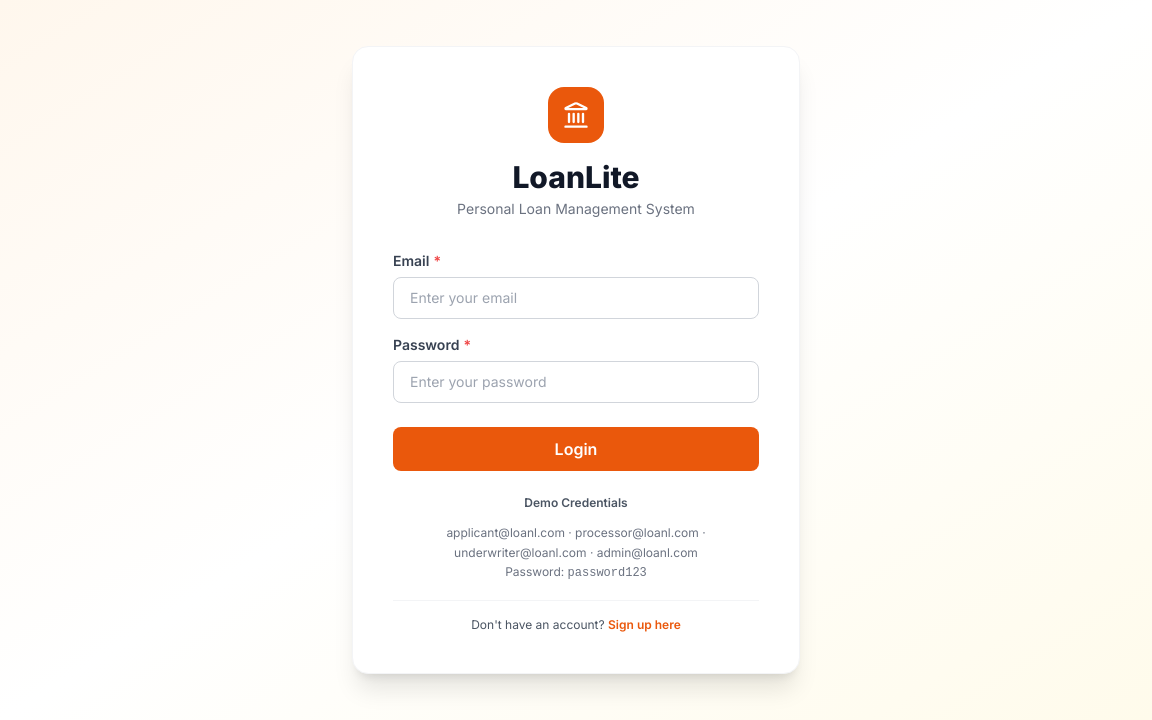
Login — error handling › shows the backend error message on a 401 bad-credentials response
Step 1. Type "a@b.com" into the field labelled "Email*" → (576, 298), box [393,277,759,319]
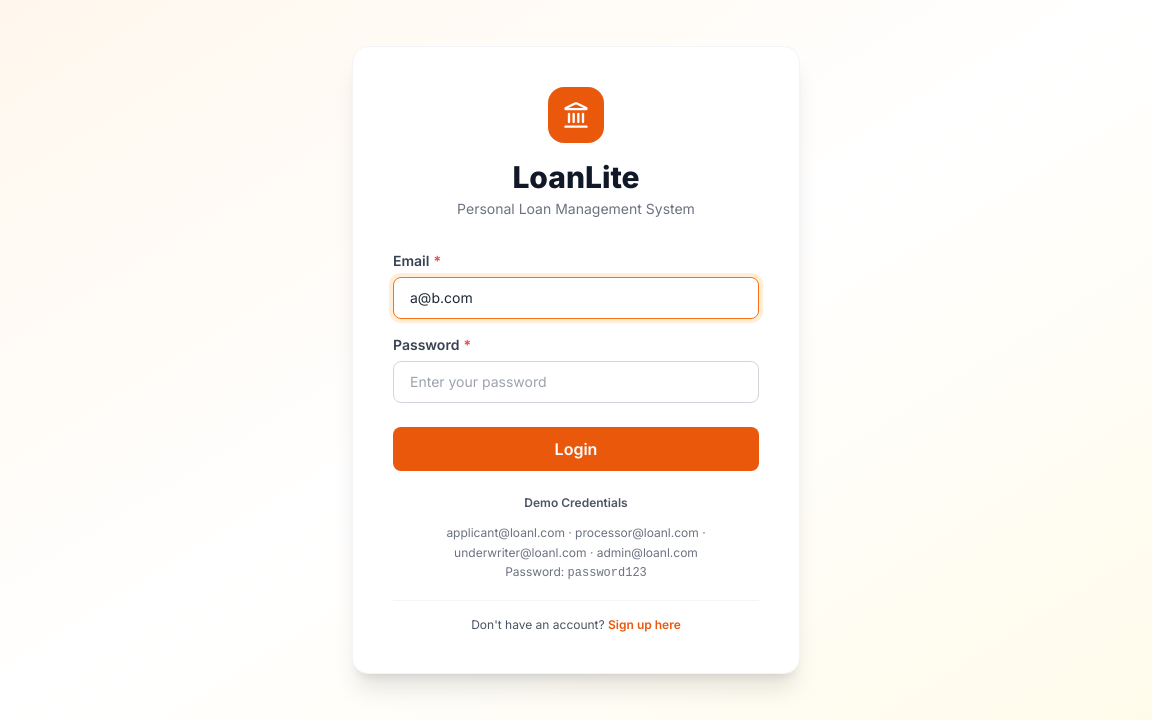
Step 2. Type "wrong" into the password field labelled "Password*" → (576, 382), box [393,361,759,403]
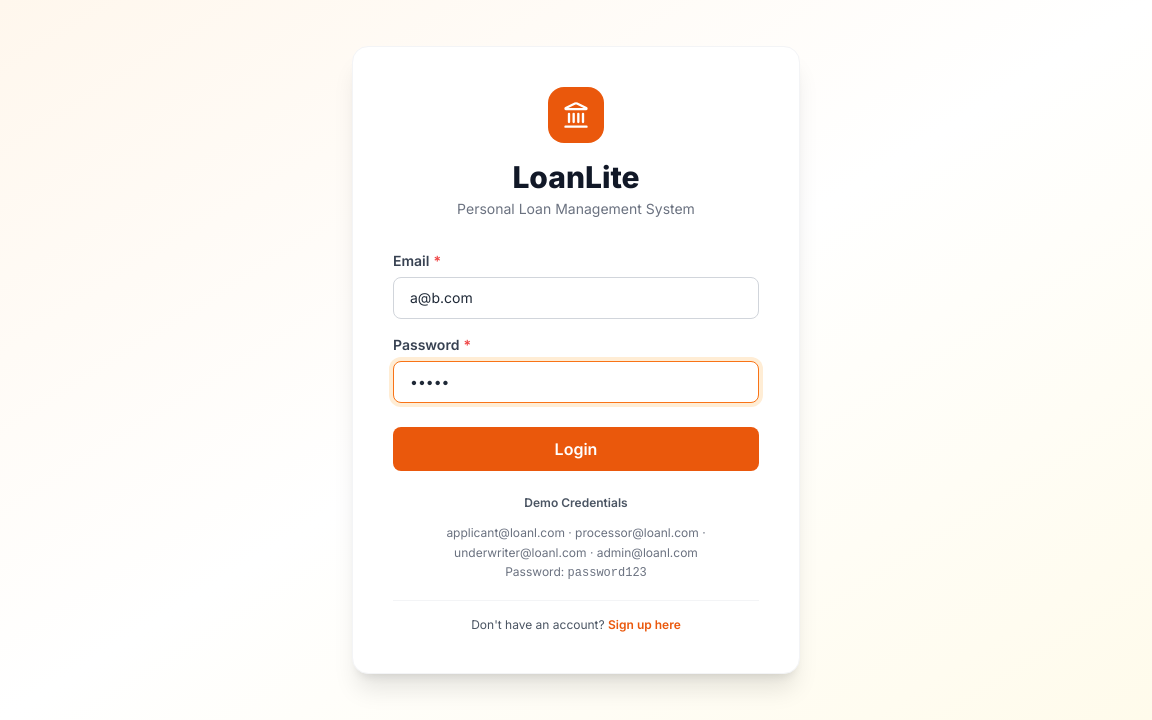
Step 3. Click the button "Login" → click(576, 449), box [393,427,759,471]
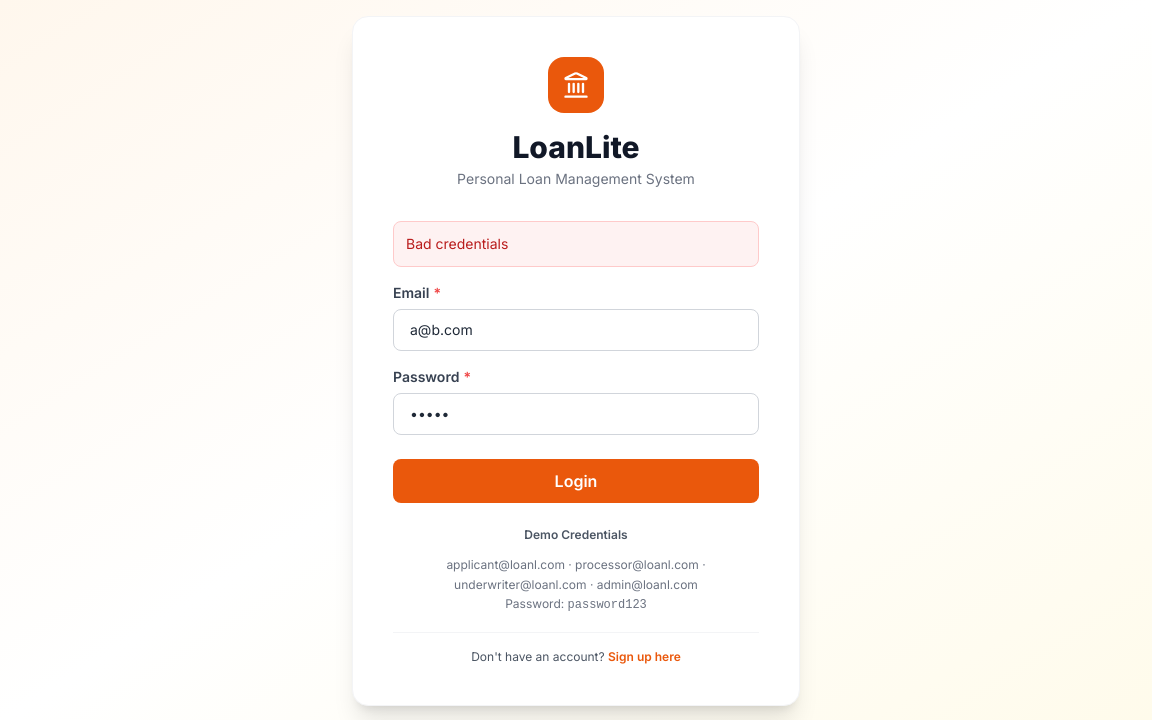
Result: the text "Bad credentials" is shown at [393,221,759,267]
